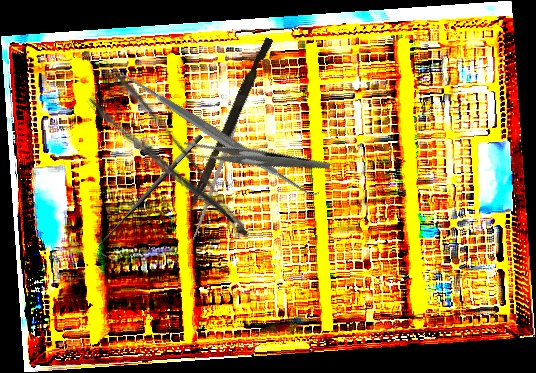Dressing Forceps: (85, 70, 254, 262), (179, 104, 331, 214)
Hook Surgical: (92, 132, 212, 259)
Pusher: (185, 35, 274, 218)
Scalpel Handle: (190, 98, 248, 242)
Spatula Surgical: (110, 60, 323, 210)
